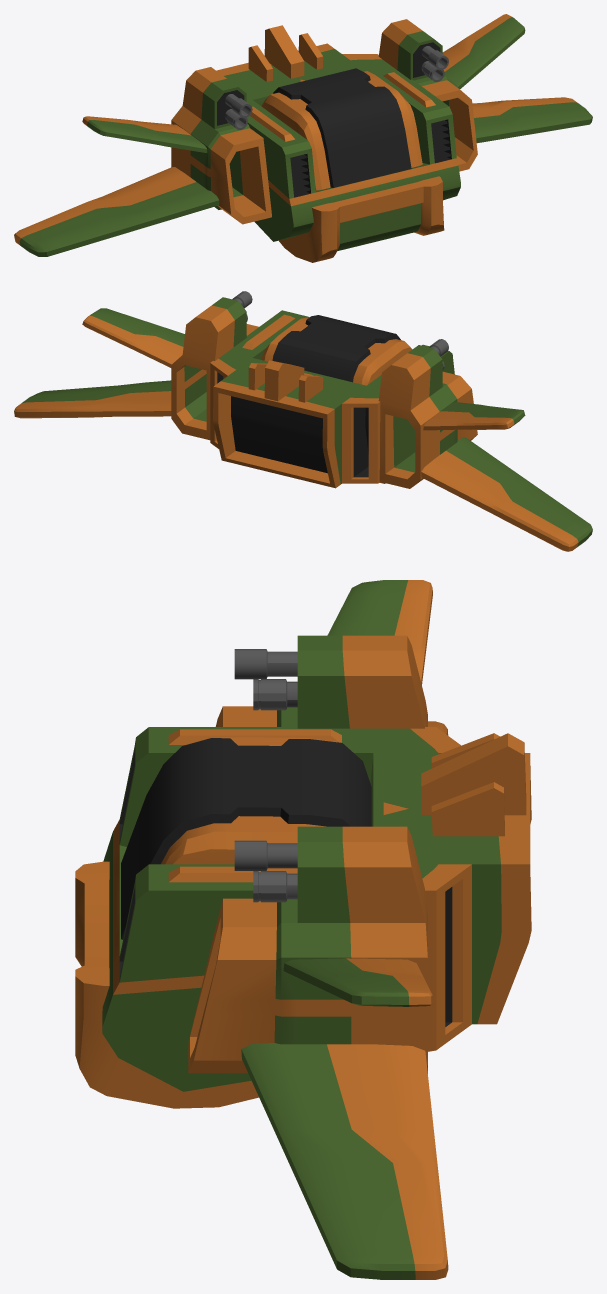
File: Spaceship Finn The Frog.glb
3 views of the same model, one above another, from view 1: azimuth 30°, elevation 25°; view 2: azimuth 150°, elevation 25°; view 3: azimuth 270°, elevation 25° (orthographic). The views are drawn at different scales.
Visible parts, largest first — view 1: Spaceship_FinnTheFrog; view 2: Spaceship_FinnTheFrog; view 3: Spaceship_FinnTheFrog.
Part boxes in pixels (left/top/right/bottom): Spaceship_FinnTheFrog: left=14, top=14, right=592, bottom=262; Spaceship_FinnTheFrog: left=14, top=291, right=592, bottom=551; Spaceship_FinnTheFrog: left=75, top=580, right=531, bottom=1279.
Size of the model in its own units: 11.62 by 3.06 by 4.11.
1 material, 1 textured.
